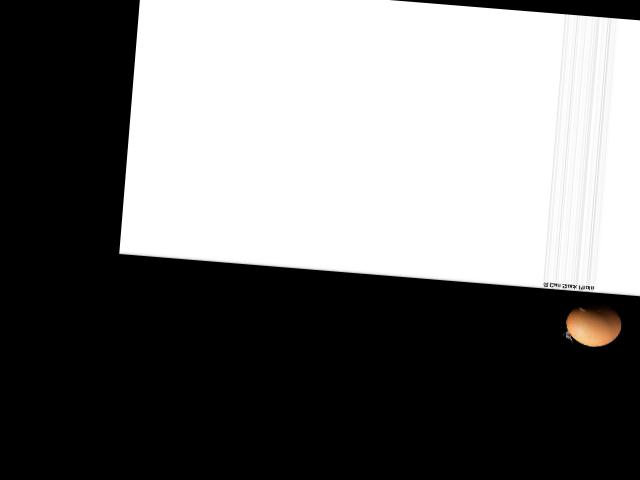egg: (565, 299, 624, 348)
